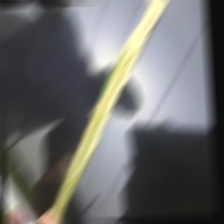Leaf_Blast: (51, 0, 165, 210)
